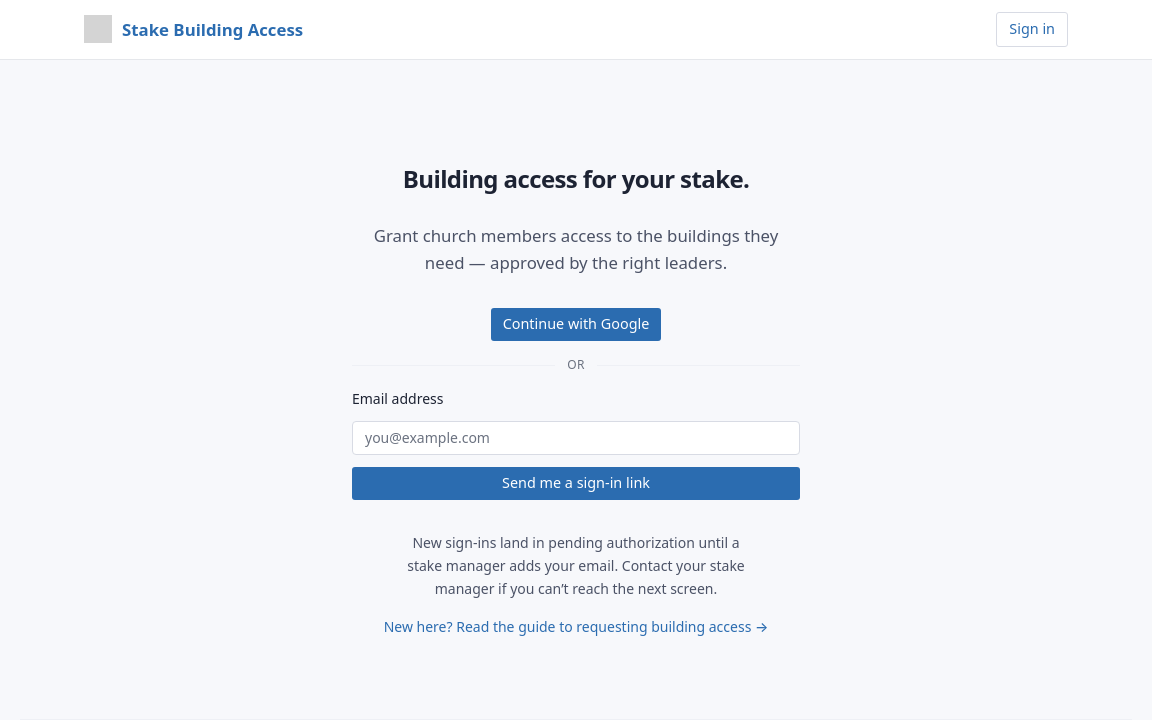
Test: SignInPage — both providers › disables both primary CTAs while the Google popup is pending
The image size is (1152, 720).
Click the button "Continue with Google" at (576,325), box [491,308,661,341]
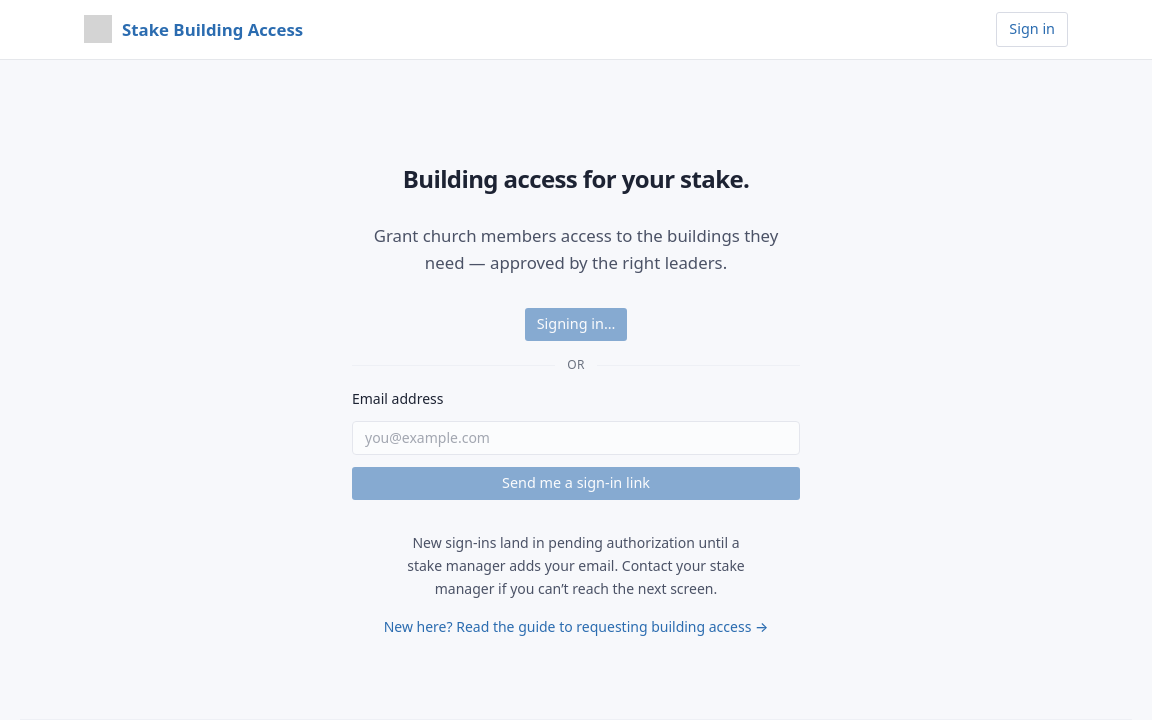
Result: the button "Signing in…" is disabled at [525,308,627,341]
Result: the button "Send me a sign-in link" is disabled at [352,467,800,500]
